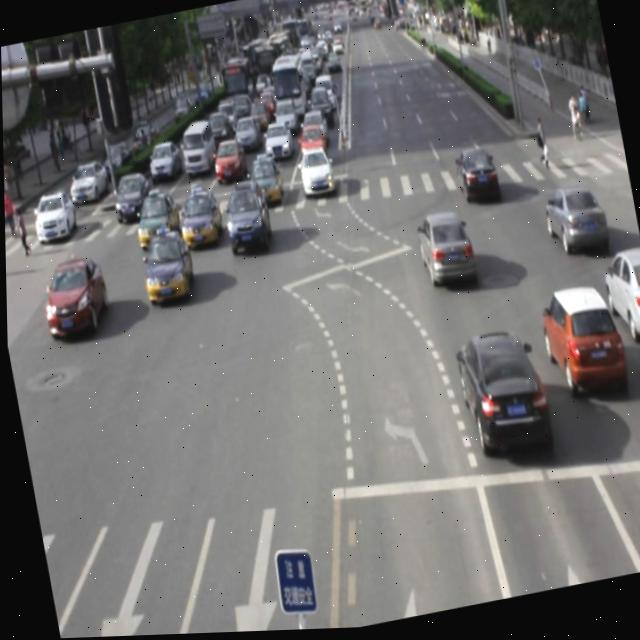car: (449, 325, 552, 467), (535, 283, 627, 404), (412, 209, 476, 294), (539, 182, 607, 261), (136, 226, 194, 308), (597, 248, 640, 349), (217, 176, 272, 254), (172, 185, 224, 254), (129, 186, 180, 253), (451, 146, 500, 211), (244, 150, 284, 210), (295, 144, 334, 199)
